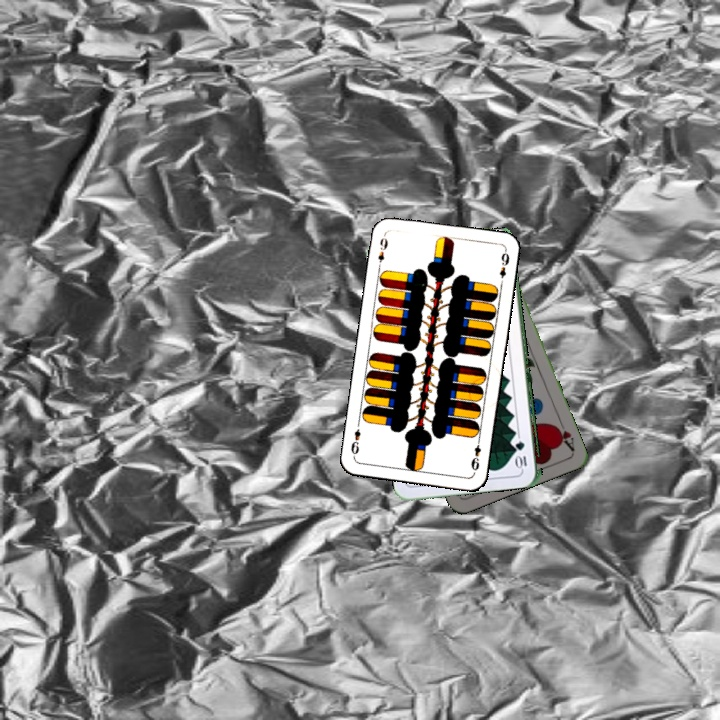E9: (374, 231, 390, 271), (467, 434, 483, 473)
G10: (513, 437, 529, 471)
HA: (551, 415, 577, 454)
